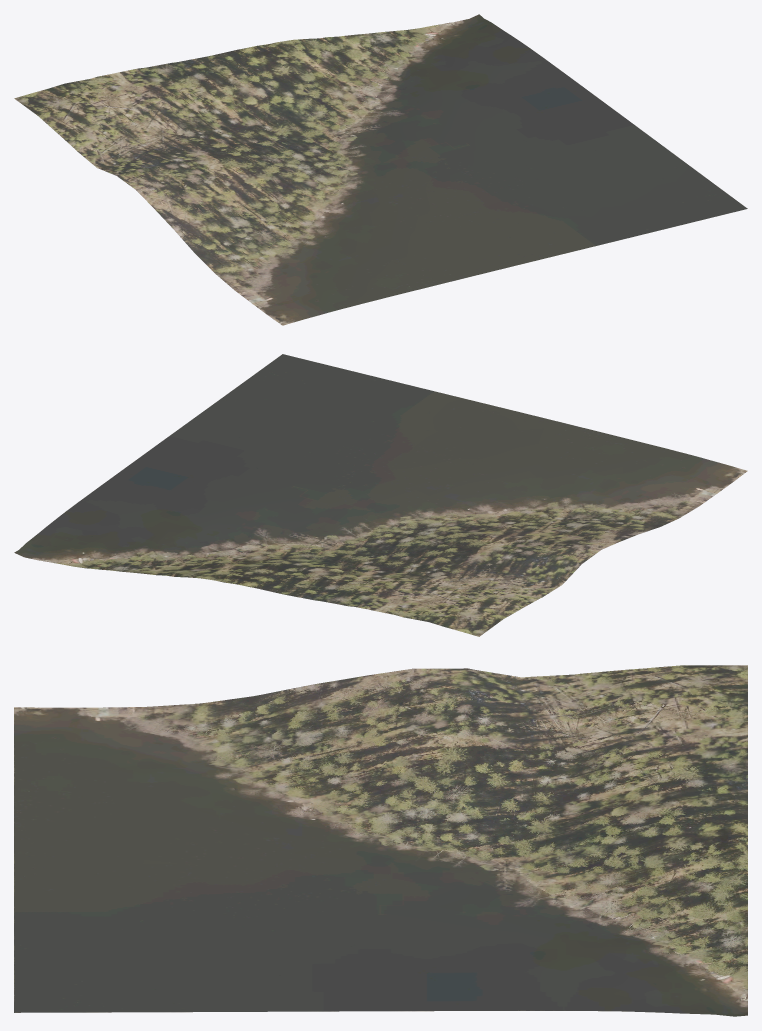
Rendered from CM_Terrain_24492302_6813855.fbx.
The picture shows the model from 3 angles, top to bottom: view 1: azimuth 30°, elevation 25°; view 2: azimuth 150°, elevation 25°; view 3: azimuth 270°, elevation 25°; orthographic projection. The views are drawn at different scales.
Parts seen in each view (by area): view 1: CM_Terrain_24492302_6813855_LOD0; view 2: CM_Terrain_24492302_6813855_LOD0; view 3: CM_Terrain_24492302_6813855_LOD0.
Part boxes in pixels (x1,y1,x2,y2): CM_Terrain_24492302_6813855_LOD0: (14,14,747,325); CM_Terrain_24492302_6813855_LOD0: (14,354,747,636); CM_Terrain_24492302_6813855_LOD0: (14,665,747,1016).
Size of what is drawn, in the model's own units: 205 by 14.6 by 205.
